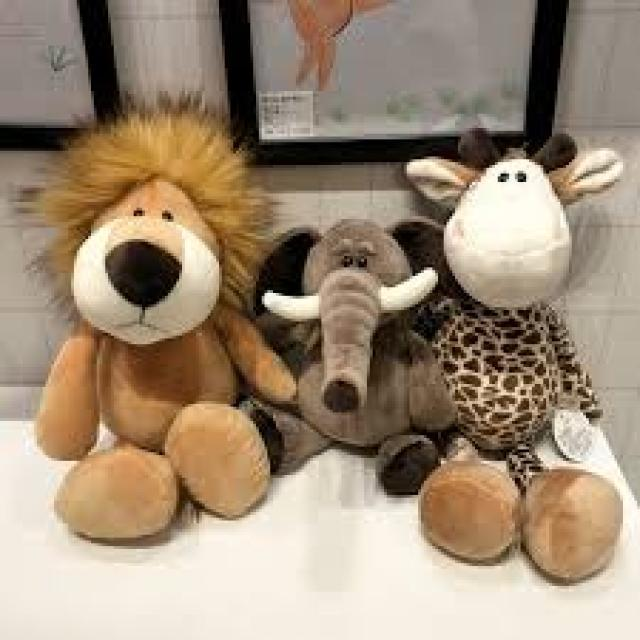soft-toy: (37, 115, 297, 540), (406, 136, 625, 580), (242, 220, 470, 495)
